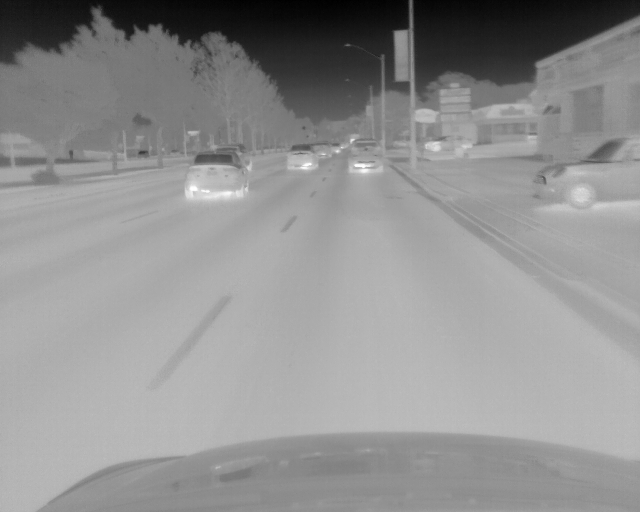car: (532, 137, 640, 209), (182, 149, 249, 198), (348, 139, 382, 174), (423, 133, 473, 154), (286, 143, 319, 173), (315, 142, 332, 160), (331, 143, 341, 154)
